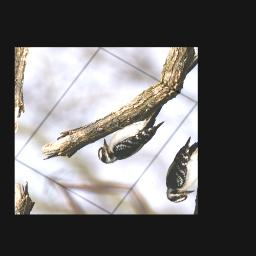Woodpecker: (87, 90, 177, 181)
